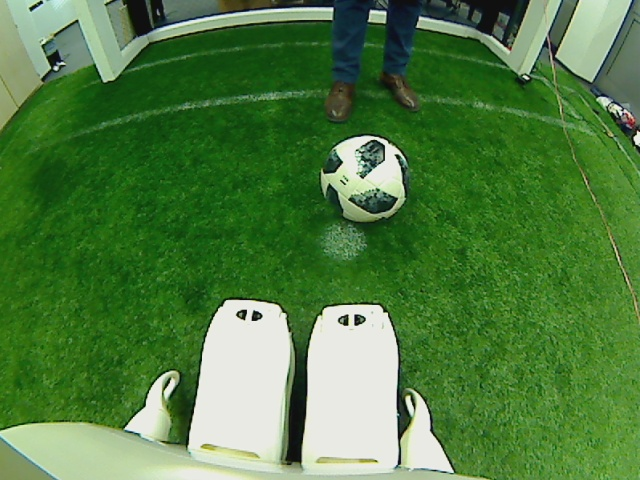ball: (322, 129, 409, 227)
